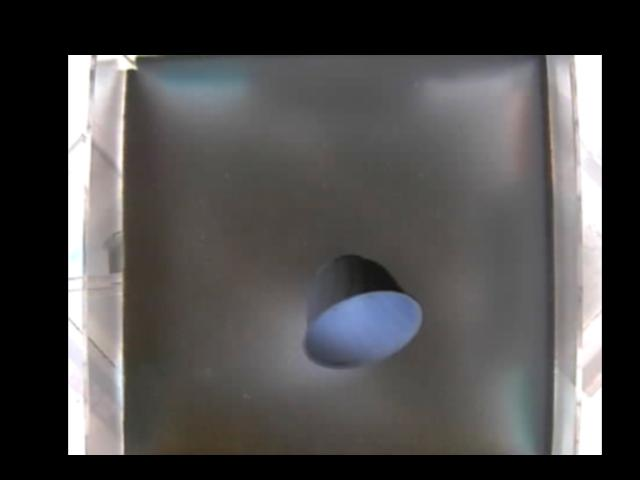Cup: (304, 254, 420, 370)
